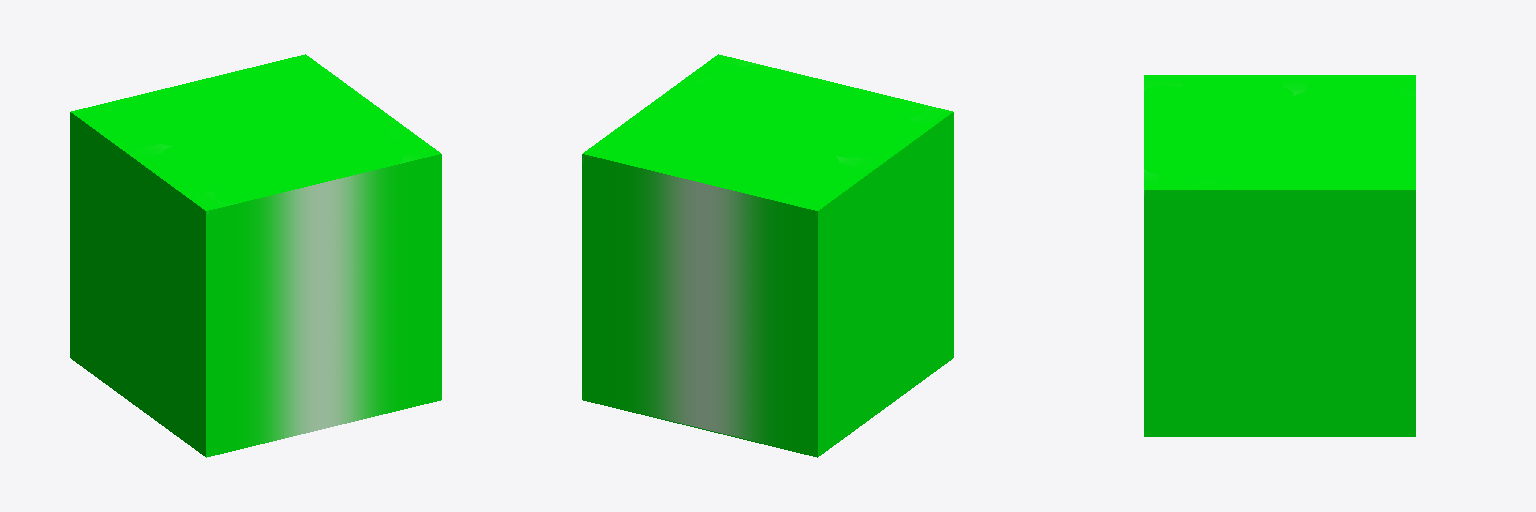
3 renders of one model, left to right at view 1: azimuth 30°, elevation 25°; view 2: azimuth 150°, elevation 25°; view 3: azimuth 270°, elevation 25°, orthographic.
Visible parts, largest first — view 1: Cube; view 2: Cube; view 3: Cube.
Part boxes in pixels (bbox=[...]): Cube: bbox=[70, 54, 441, 457]; Cube: bbox=[582, 54, 953, 457]; Cube: bbox=[1144, 75, 1415, 436].
Size of the model in its own units: 1 by 1 by 1.
Materials: 1 (1 with a texture image).